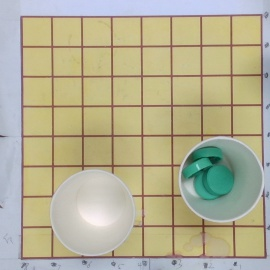cup: (51, 170, 137, 256)
cup_green: (179, 137, 264, 223)
